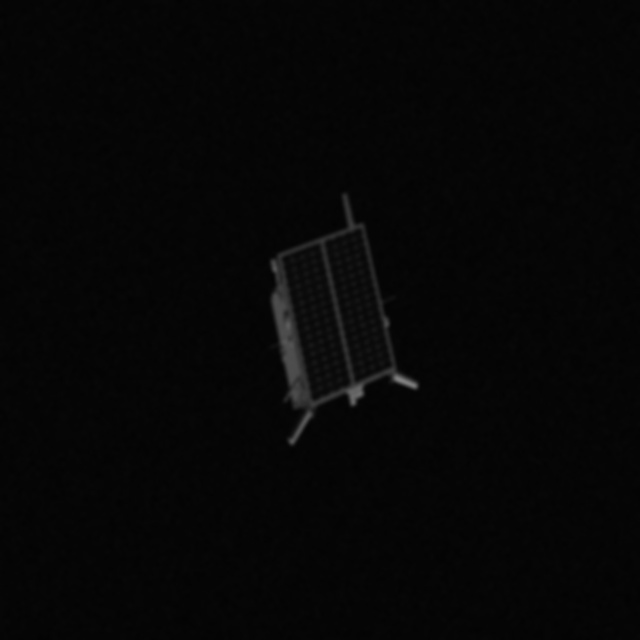medium_debris: (256, 188, 426, 452)
